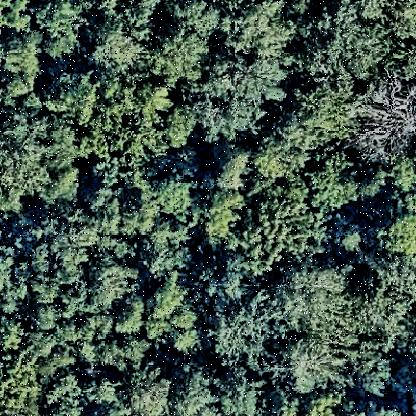tree-top: (1, 224, 95, 330), (1, 105, 82, 225), (81, 77, 177, 175), (346, 240, 416, 352), (183, 52, 265, 140), (142, 276, 228, 359), (346, 72, 416, 166), (301, 10, 389, 80), (280, 80, 362, 149), (249, 197, 327, 269), (219, 285, 283, 367), (276, 261, 344, 332), (145, 19, 211, 85), (221, 1, 300, 56), (276, 328, 339, 395), (188, 190, 252, 255), (85, 188, 153, 244), (1, 334, 47, 416), (45, 369, 124, 416), (303, 144, 359, 210), (84, 15, 142, 73), (31, 1, 85, 63), (135, 224, 196, 278), (168, 360, 223, 416), (2, 24, 42, 98), (48, 73, 101, 128), (93, 257, 141, 313), (350, 341, 394, 399), (204, 140, 253, 192), (217, 368, 270, 416), (151, 175, 193, 228)
